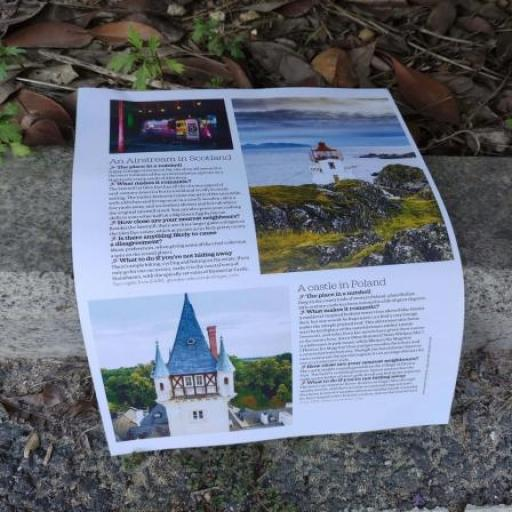paper: (25, 50, 512, 512)
